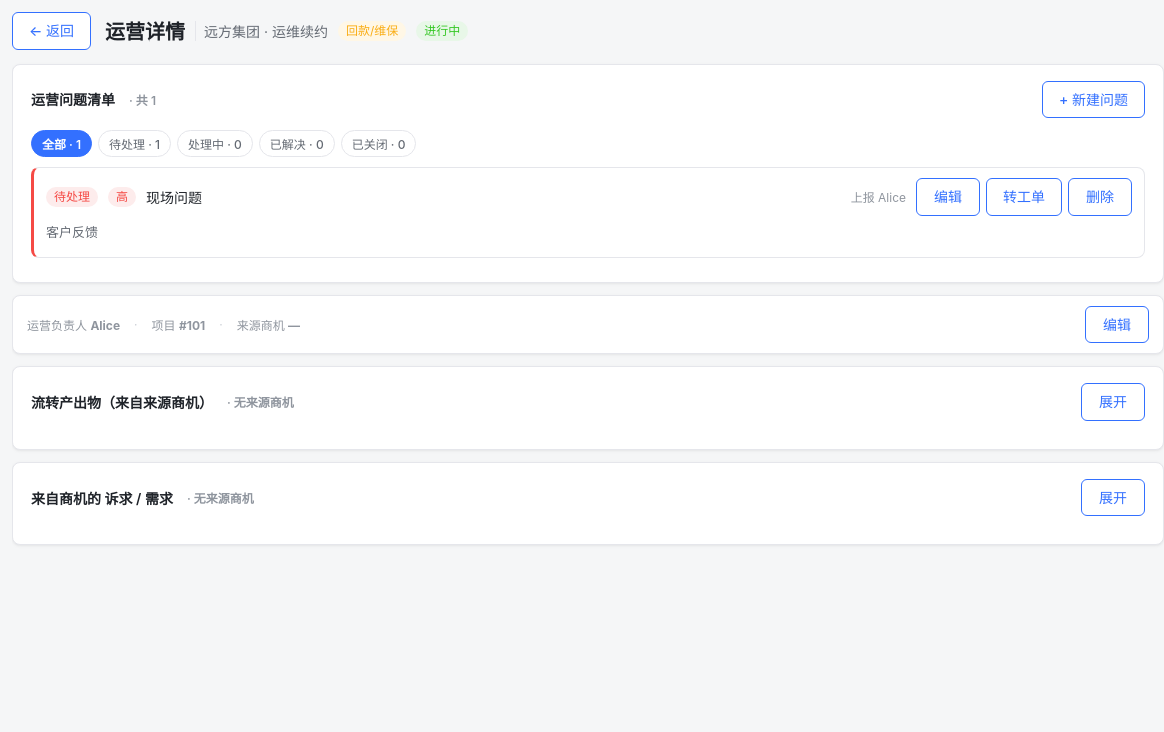
OperationDetailPage › converts an operation issue through a project picker instead of prompt (TC-OPICK-01)
Click the button with test id "op-issue-convert-33" at (1024, 197), box [986,178,1062,216]
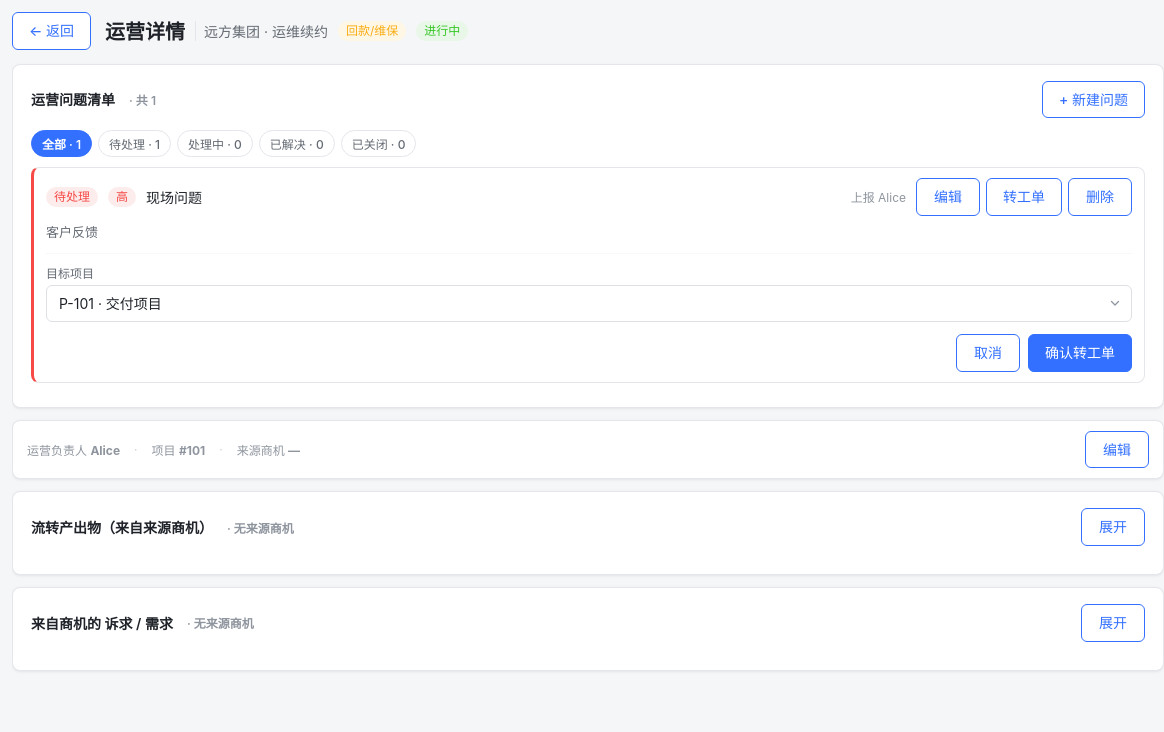
Now the element with test id "op-issue-convert-panel-33" is shown, box [46,253,1132,372]
Now the dropdown with test id "op-issue-convert-project-33" shows "P-101 · 交付项目"
Select "P-202 · 增购项目" in the dropdown with test id "op-issue-convert-project-33" at (589, 303), box [46,285,1132,322]
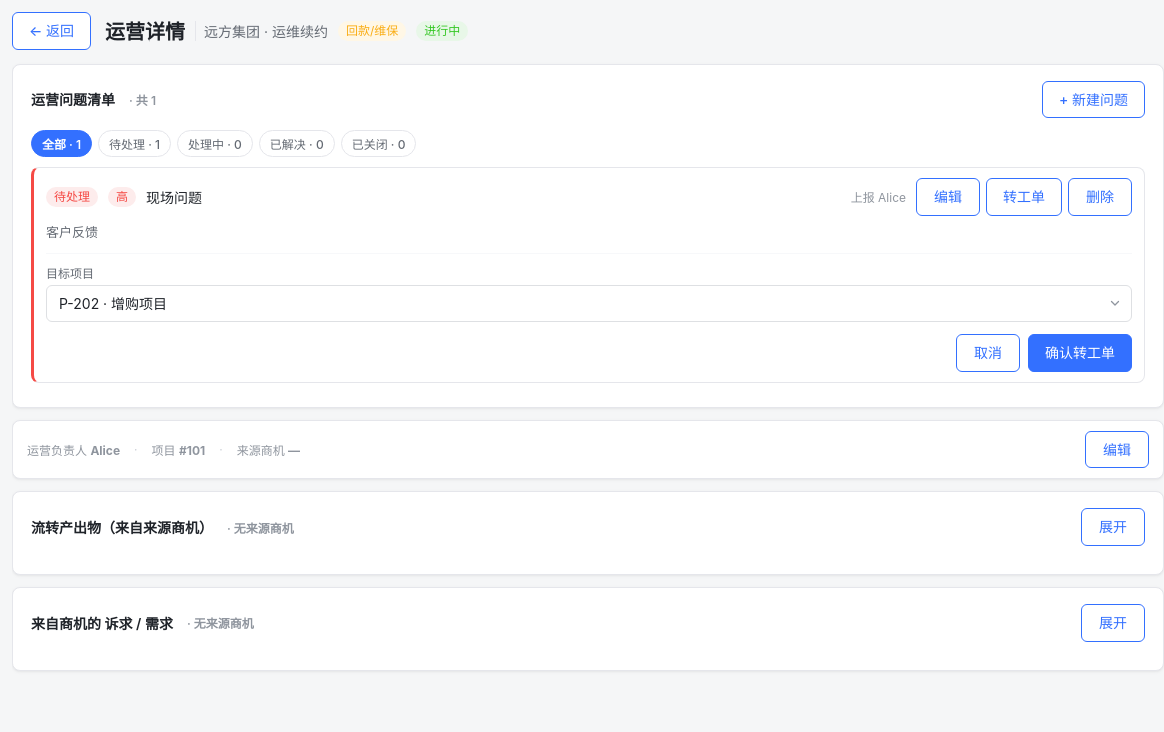
Click the button with test id "op-issue-convert-submit-33" at (1080, 353), box [1028,334,1132,372]
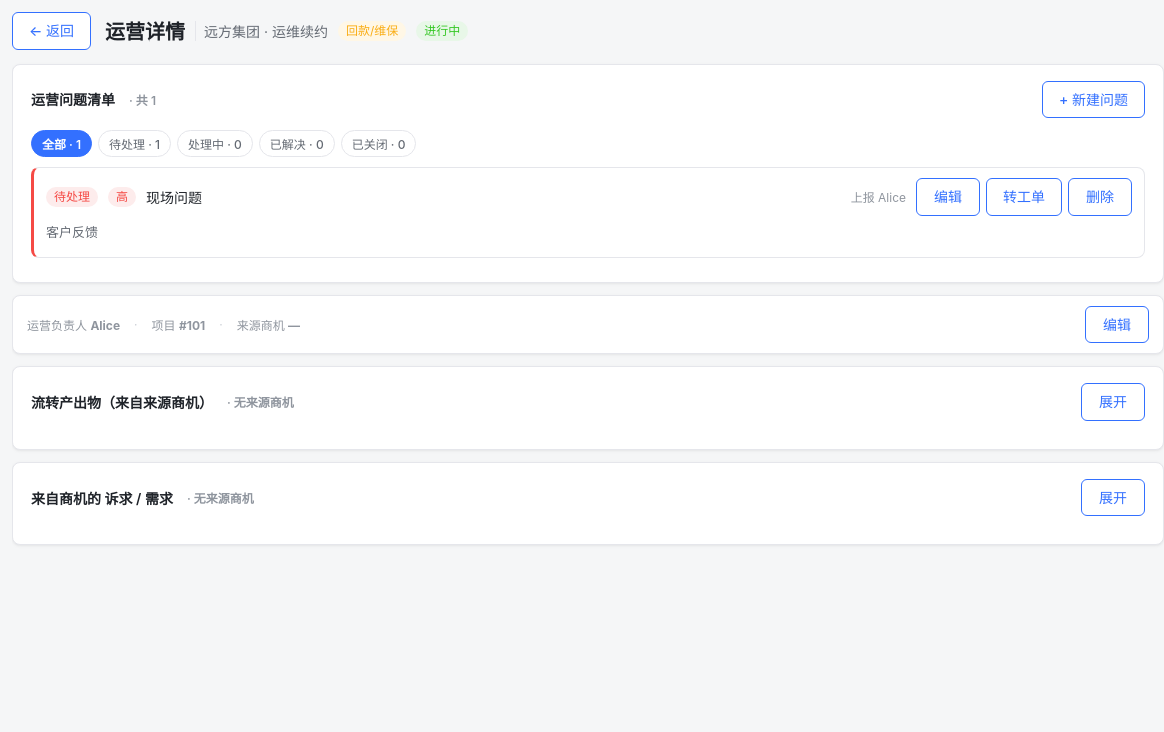
Now the element with test id "op-issue-convert-panel-33" is gone
